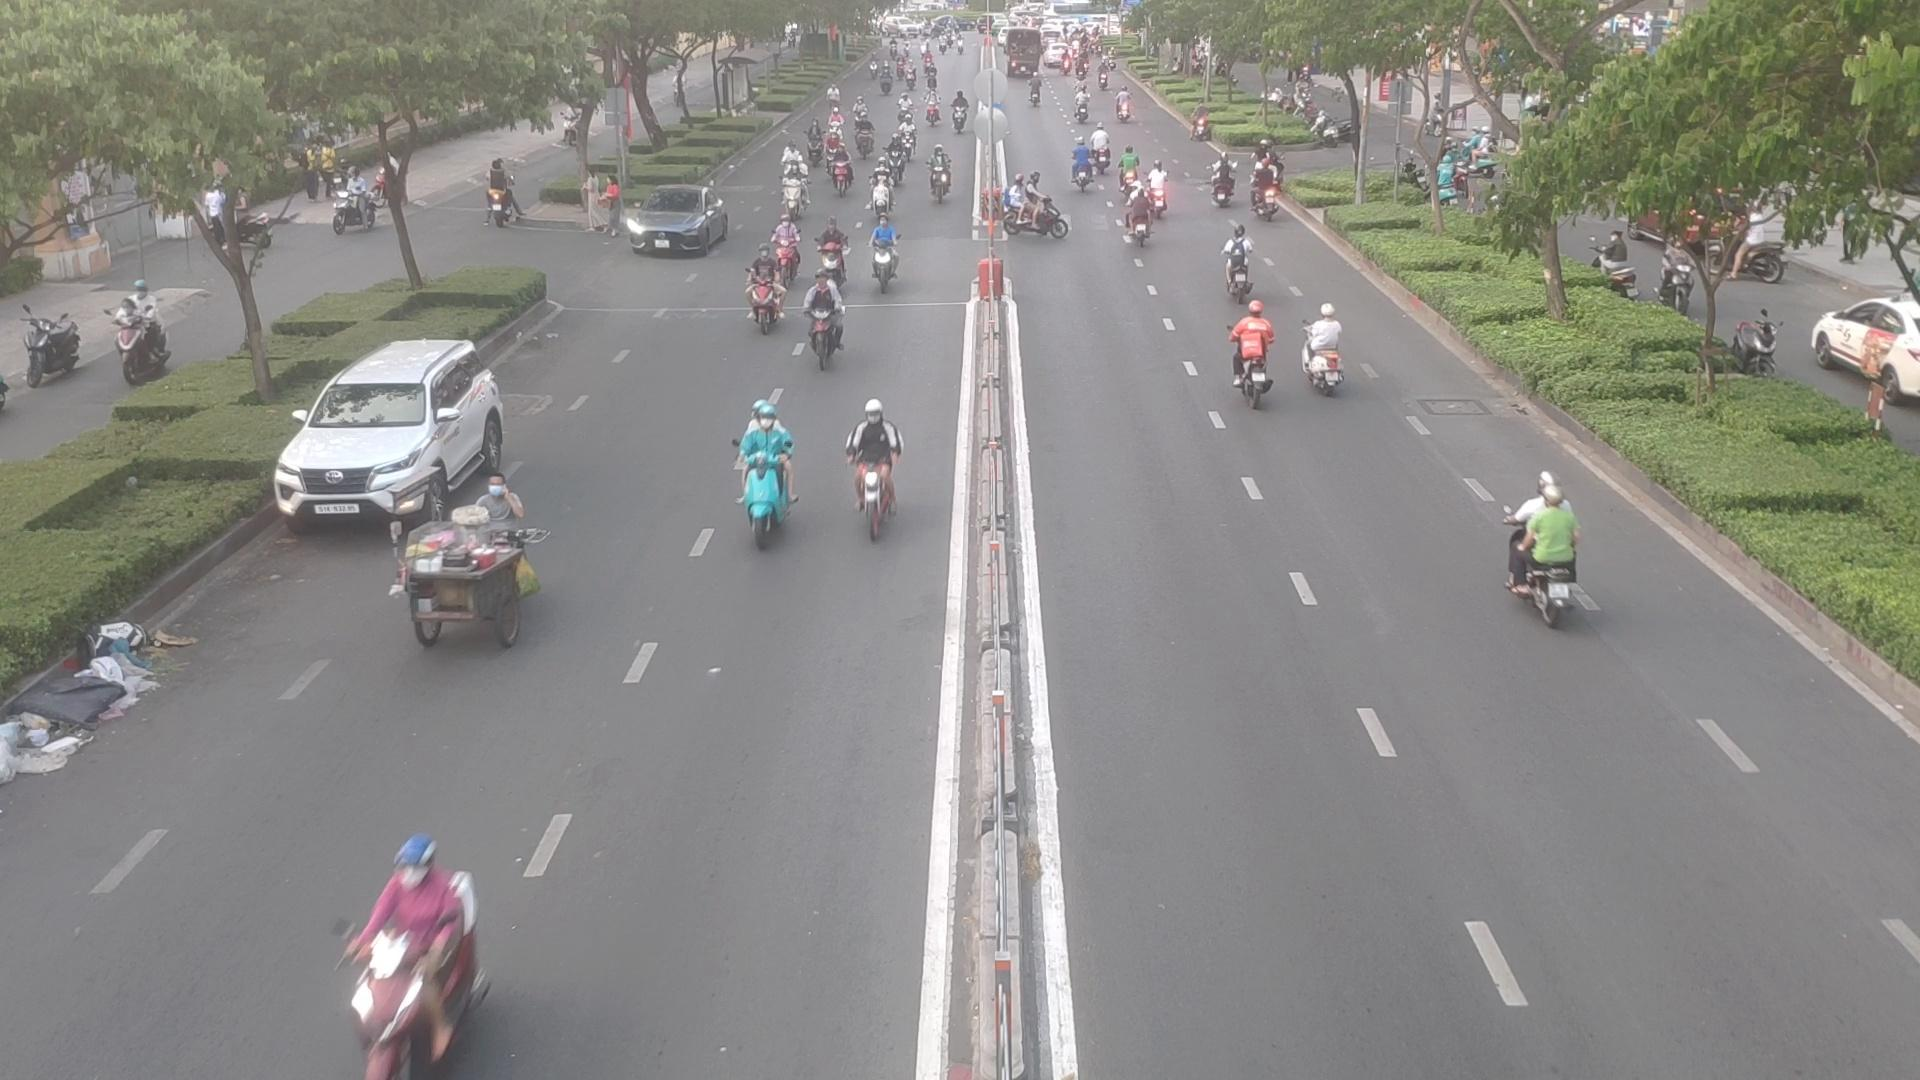car: (277, 342, 520, 526), (613, 193, 748, 258)
motorbike: (324, 843, 498, 1080), (1494, 483, 1596, 634), (721, 406, 800, 558), (841, 397, 910, 549), (1303, 311, 1360, 402), (1233, 314, 1282, 406), (737, 255, 786, 334), (804, 287, 852, 367), (861, 222, 905, 291), (1225, 245, 1270, 309), (812, 225, 856, 287), (1064, 146, 1102, 194), (927, 160, 956, 204), (829, 154, 857, 196)
